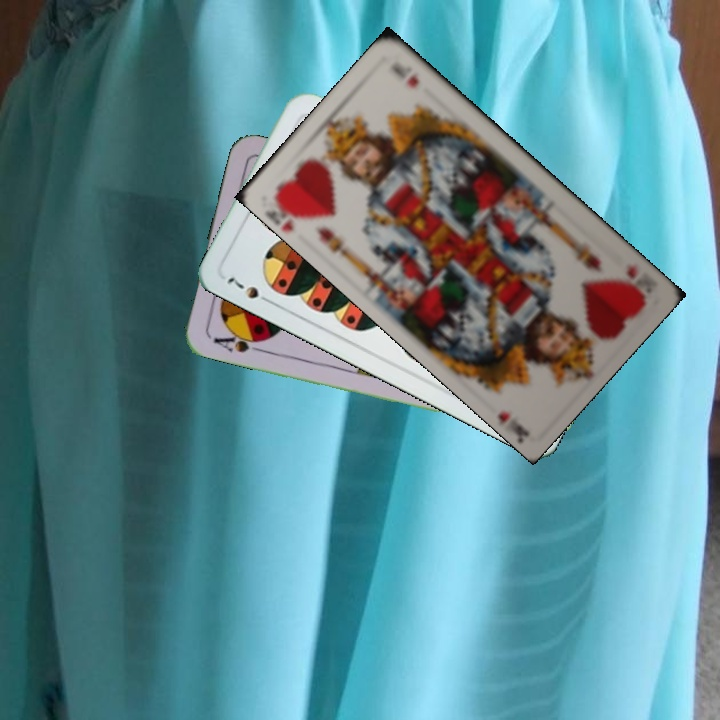HK: (263, 189, 308, 234), (613, 260, 659, 301)
S7: (222, 273, 275, 307)
SA: (210, 327, 268, 356)
